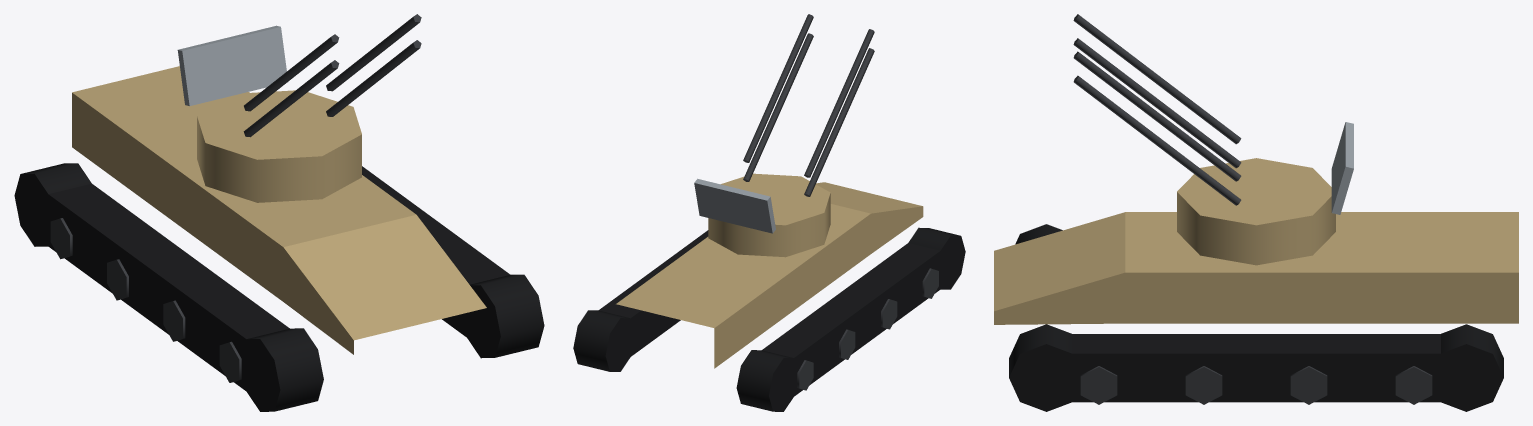
Rendered from veh_ground_aa_tracked_a07.glb.
3 renders of one model, left to right at view 1: azimuth 30°, elevation 25°; view 2: azimuth 150°, elevation 25°; view 3: azimuth 270°, elevation 25°, orthographic. The views are drawn at different scales.
Visible parts, largest first — view 1: body, track_r, turret, track_l, radar; view 2: body, track_r, turret, track_l, radar; view 3: body, track_l, turret, radar.
Boxes of the visible parts, x1=… form: body: x1=72, y1=66, x2=486, y2=354; track_r: x1=14, y1=163, x2=323, y2=411; turret: x1=197, y1=14, x2=421, y2=202; track_l: x1=362, y1=166, x2=544, y2=358; radar: x1=177, y1=25, x2=286, y2=106; body: x1=616, y1=182, x2=923, y2=368; track_r: x1=736, y1=227, x2=965, y2=411; turret: x1=708, y1=14, x2=874, y2=257; track_l: x1=573, y1=230, x2=708, y2=371; radar: x1=694, y1=178, x2=775, y2=233; body: x1=994, y1=212, x2=1518, y2=324; track_l: x1=1009, y1=324, x2=1503, y2=411; turret: x1=1073, y1=14, x2=1335, y2=265; radar: x1=1331, y1=122, x2=1353, y2=214.
Size of what is drawn, in the model's own units: 3.27 by 3.98 by 5.94.
